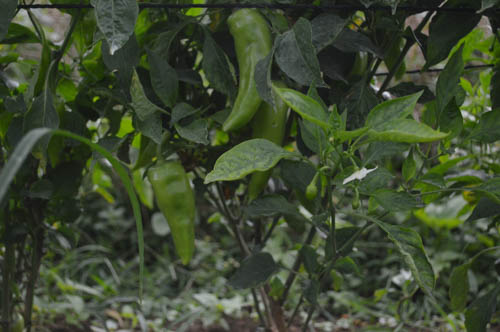ChiliPepper: (223, 13, 270, 134), (249, 82, 292, 199), (152, 161, 196, 262)
